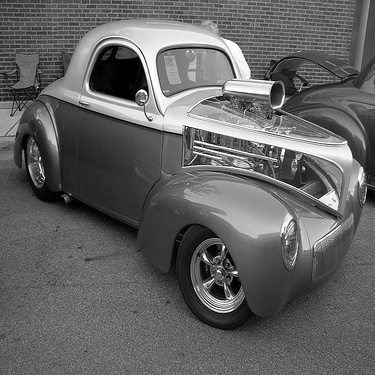car: (10, 16, 368, 330), (263, 47, 371, 198)
